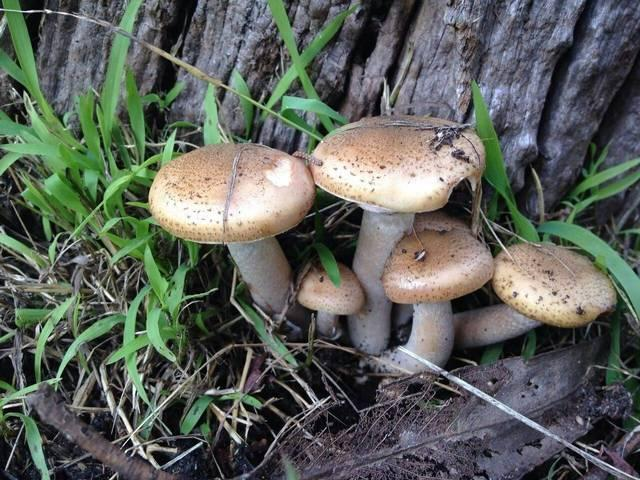edible_mushroom: (304, 113, 487, 356), (146, 140, 316, 329), (372, 209, 493, 379), (495, 223, 628, 345), (294, 258, 365, 340)
